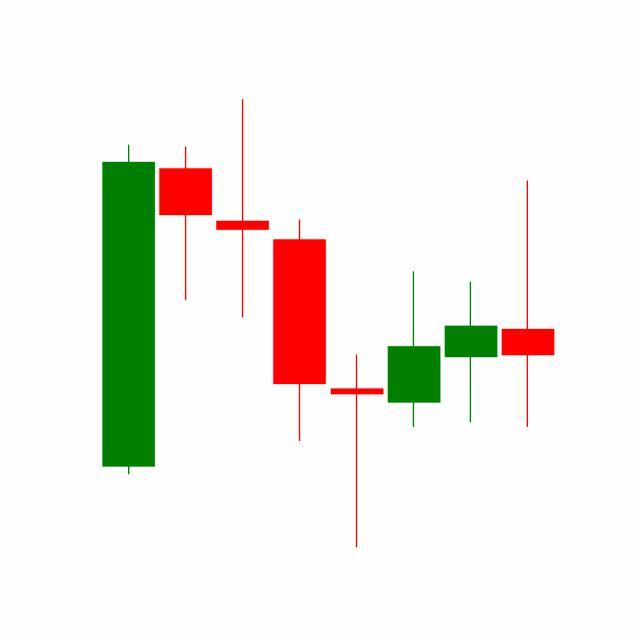Three Outside Up-Down: (328, 268, 500, 549)
